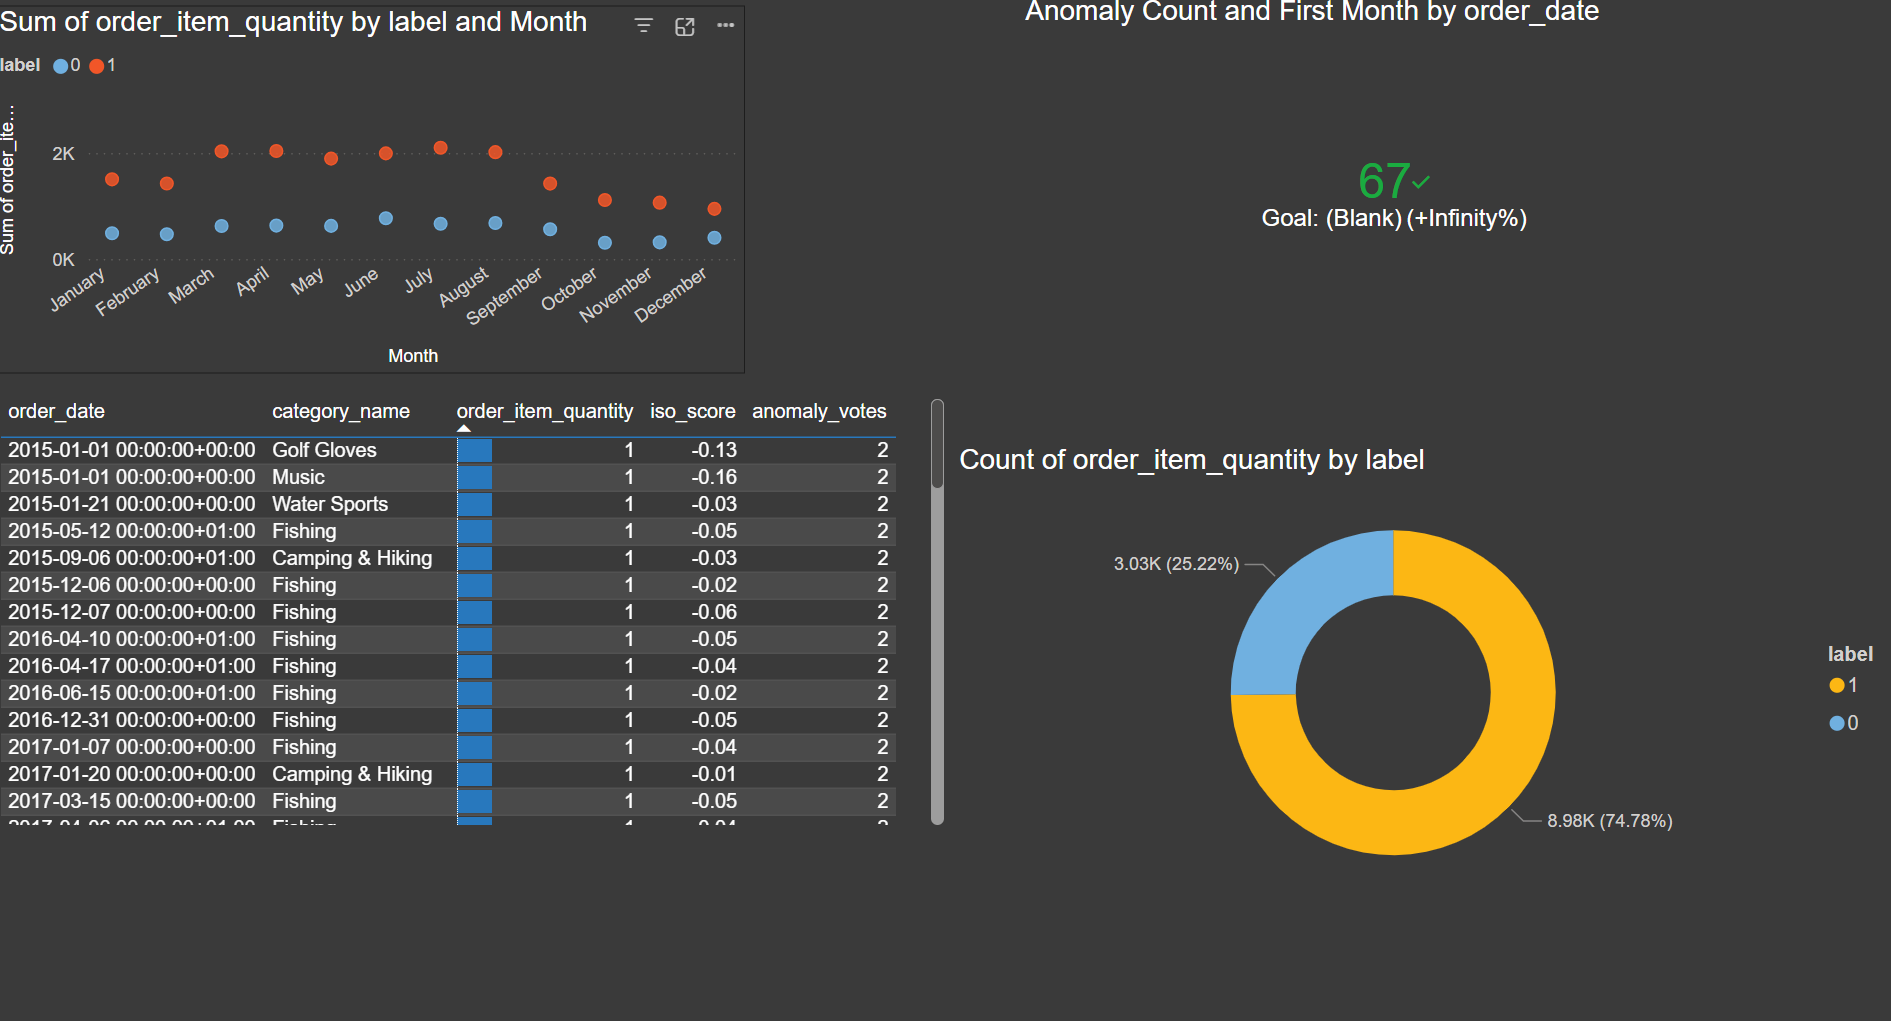

The dashboard page shown, as its layout file describes it:
{"tool":"powerbi","page":{"name":"Anomaly Report","canvas":[1280,720],"ordinal":1},"visuals":[{"type":"scatterChart","fields":{"Y":["Sum(cleaned_data.order_item_quantity)"],"Series":["cleaned_data.label"],"X":["cleaned_data.order_date.Variation.Date Hierarchy.Month"]},"box":[0,7.3,502.3,244.7],"z":0},{"type":"tableEx","fields":{"Values":["detected_anomalies.order_date","detected_anomalies.category_name","detected_anomalies.order_item_quantity","detected_anomalies.iso_score","detected_anomalies.anomaly_votes"]},"box":[0,263.8,640.1,294],"z":1},{"type":"donutChart","fields":{"Category":["cleaned_data.label"],"Y":["CountNonNull(cleaned_data.order_item_quantity)"]},"box":[639.9,299.4,639.9,310.2],"z":2},{"type":"kpi","fields":{"Indicator":["cleaned_data.Anomaly Count"],"Goal":["Min(cleaned_data.order_date.Variation.Date Hierarchy.Month)"],"TrendLine":["cleaned_data.order_date"]},"box":[683.9,0,502.1,244.6],"z":3}]}

Visuals, with their boxes on the page's 1280x720 design canvas (x1, y1, x2, y2). These are canvas units, not pixel positions in the 1891x1021 screenshot, which may show the page scaled, cropped or inside an application window:
scatterChart - Sum(cleaned_data.order_item_quantity) x cleaned_data.label: (0, 7, 502, 252)
tableEx - detected_anomalies.order_date x detected_anomalies.category_name: (0, 264, 640, 558)
donutChart - cleaned_data.label x CountNonNull(cleaned_data.order_item_quantity): (640, 299, 1280, 610)
kpi - cleaned_data.Anomaly Count x Min(cleaned_data.order_date.Variation.Date Hierarchy.Month): (684, 0, 1186, 245)
